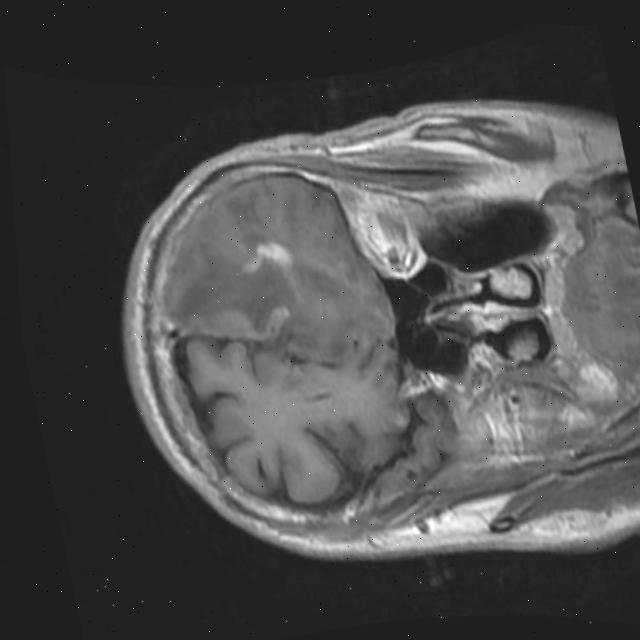Glioma: (236, 236, 298, 277)
